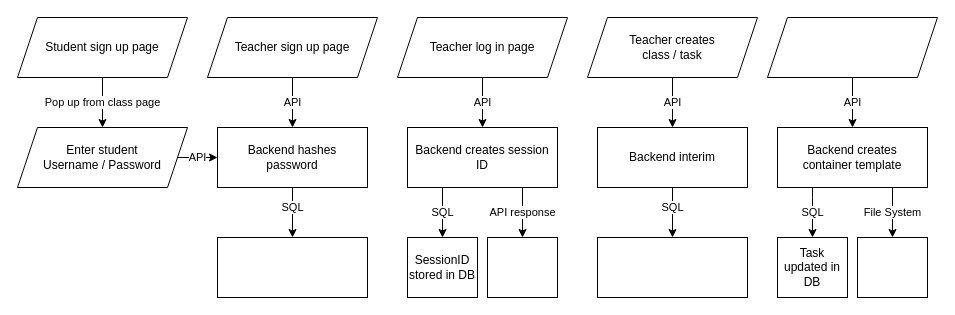
The diagram is 955 pixels wide and 315 high, and some of its shapes have lost their labels. The shapes that lost their labels are listed below. From the top down, each one's centre as x and y in pixels, then its label:
the point at 852,47: Teacher adds starting code to task
the point at 292,267: User data stored in DB
the point at 522,267: Login cookie set + Redirect to main page
the point at 672,267: Item created in DB
the point at 892,267: Dockerfile created in backend
